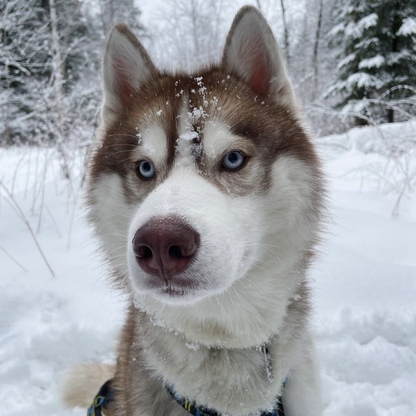husky: (52, 2, 337, 416)
